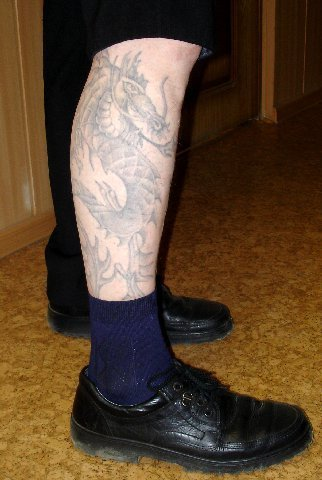tatu6_drakon: (63, 50, 211, 299)
